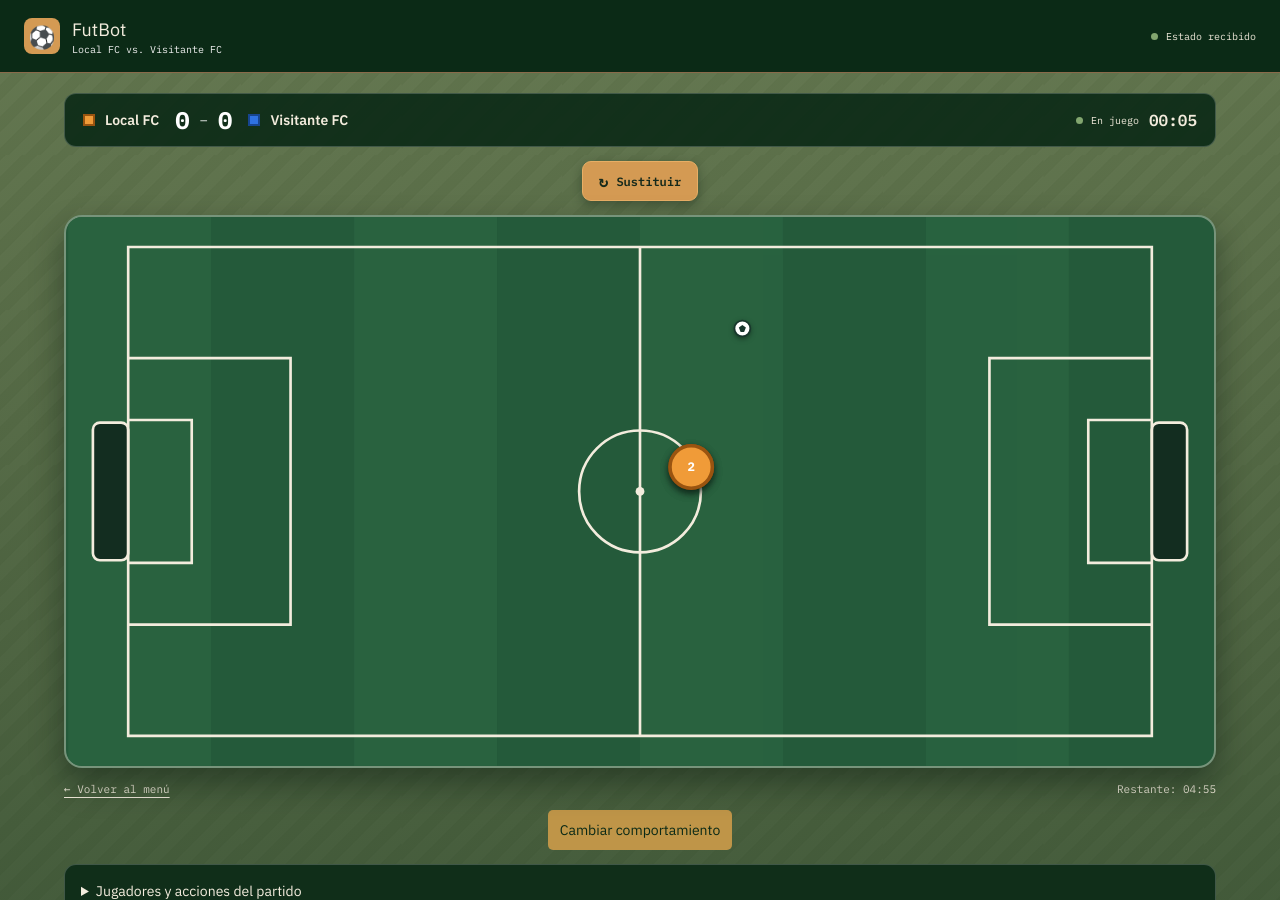
Estado del partido por WebSocket › con varios cambios seguidos, un error posterior al primer acuse no corta la vista
Step 1. Click the button "Cambiar comportamiento" → click(640, 830), box [548,810,732,850]
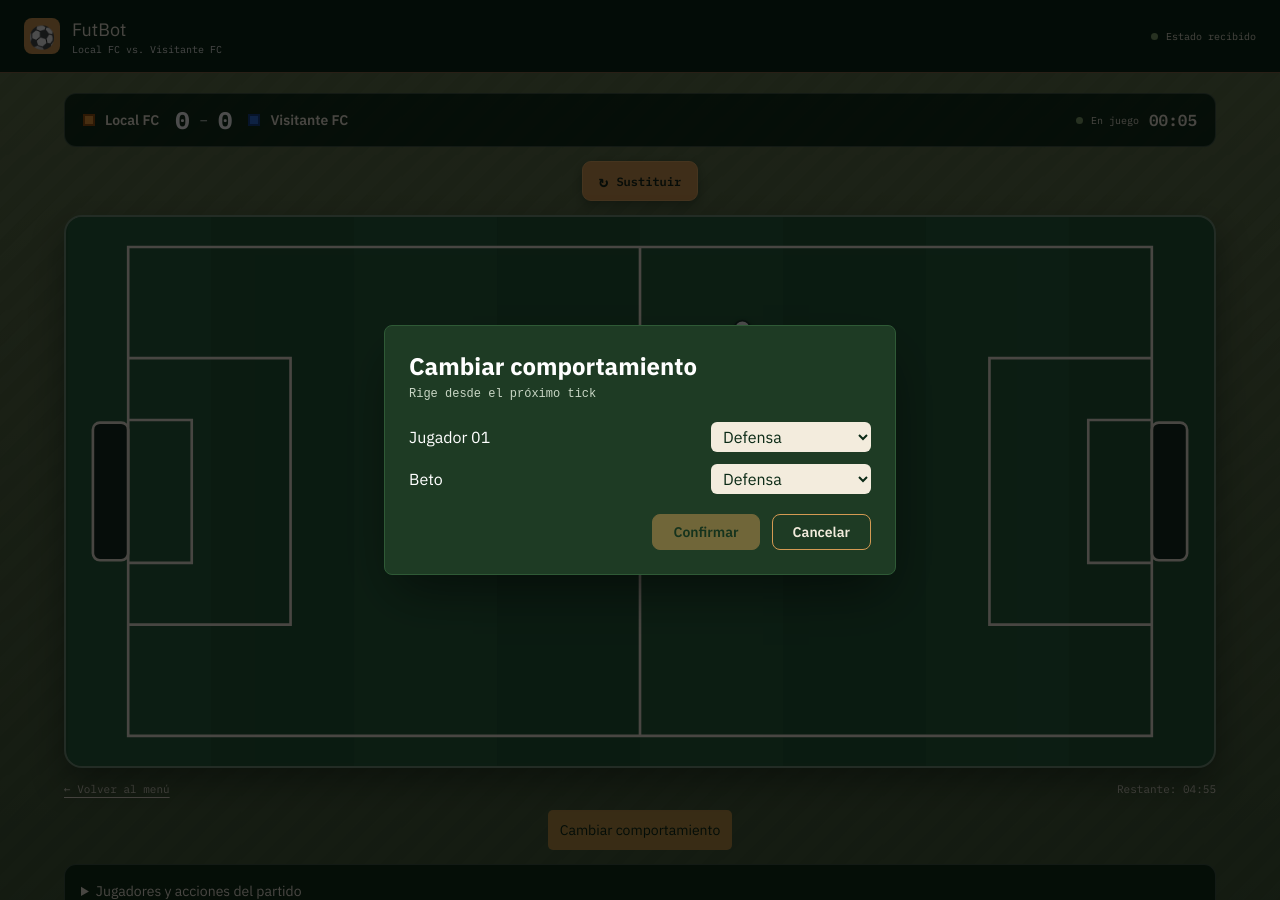
Step 2. Select "Ataque" in the dropdown named "Comportamiento de Jugador 01" → (791, 437), box [711,422,871,452]
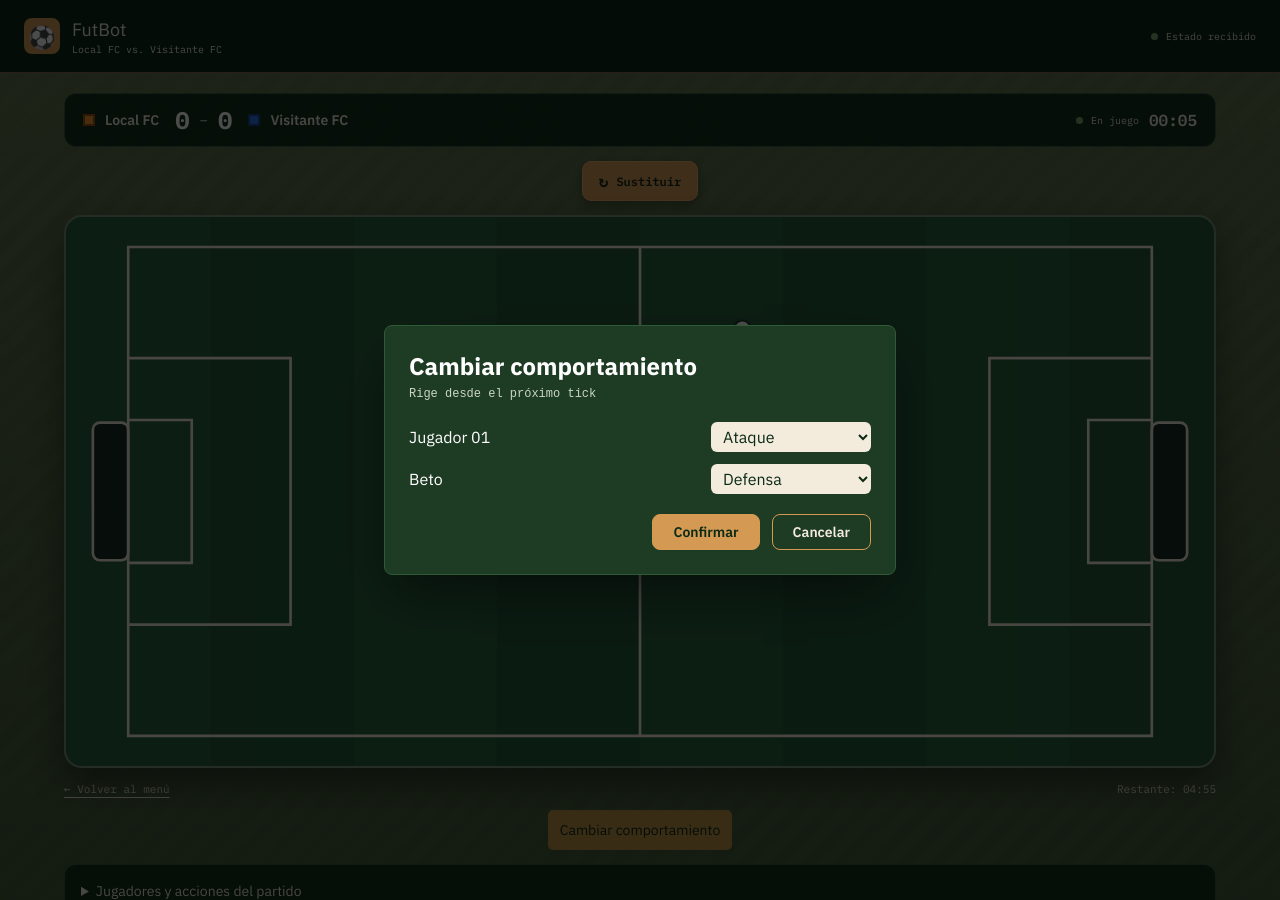
Step 3. Select "Ataque" in the dropdown named "Comportamiento de Beto" → (791, 479), box [711,464,871,494]
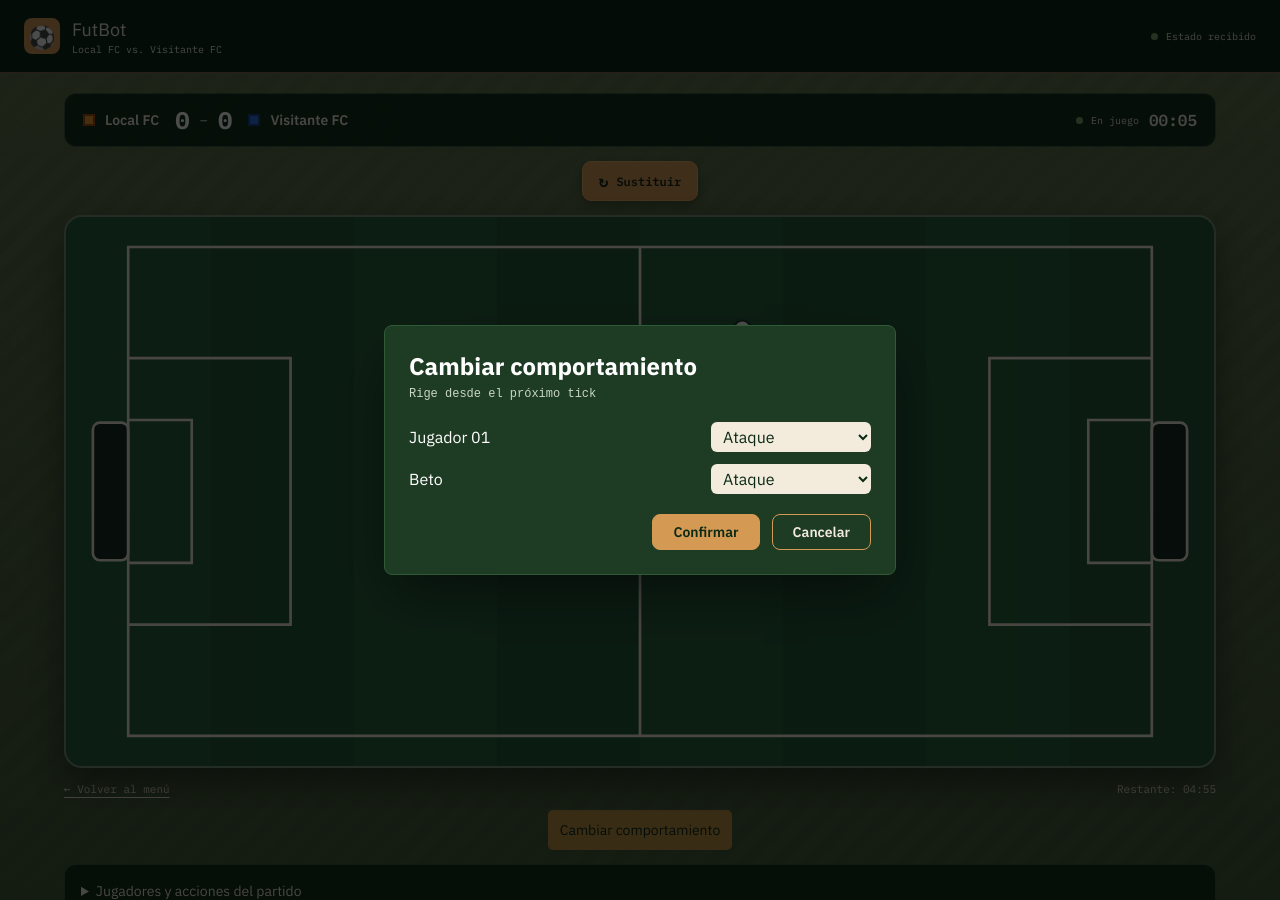
Step 4. Click the button "Confirmar" → click(706, 532), box [652,514,760,550]
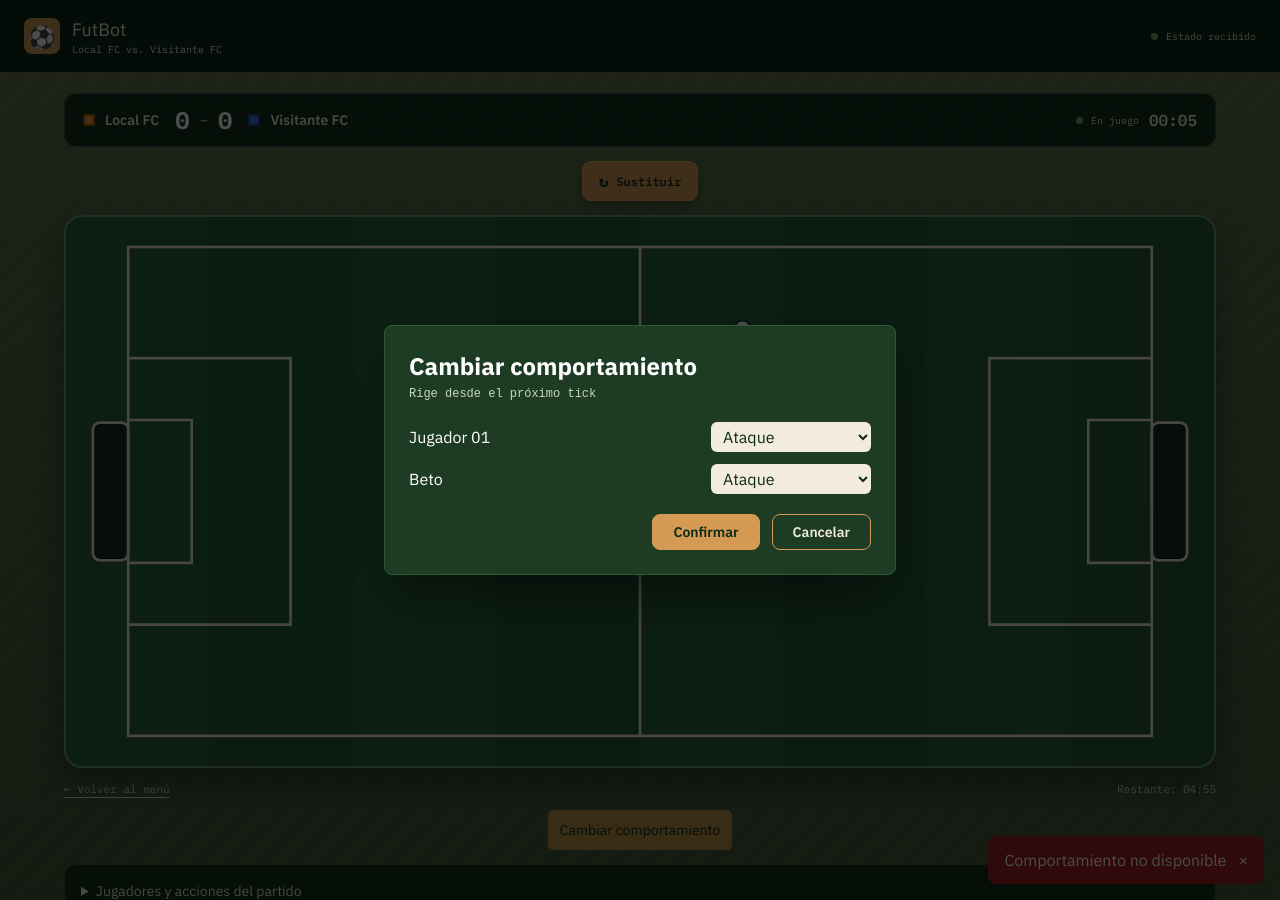
expect the message shows "Comportamiento no disponible": met, box [1004,850,1226,870]
